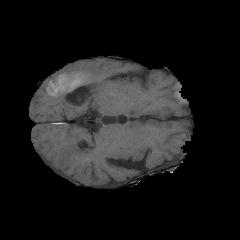glioma: (46, 75, 109, 168)
